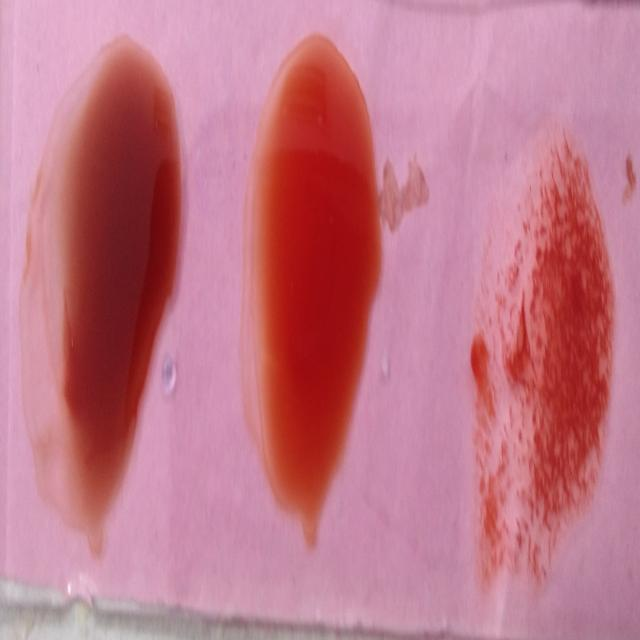D: (470, 125, 608, 583)
